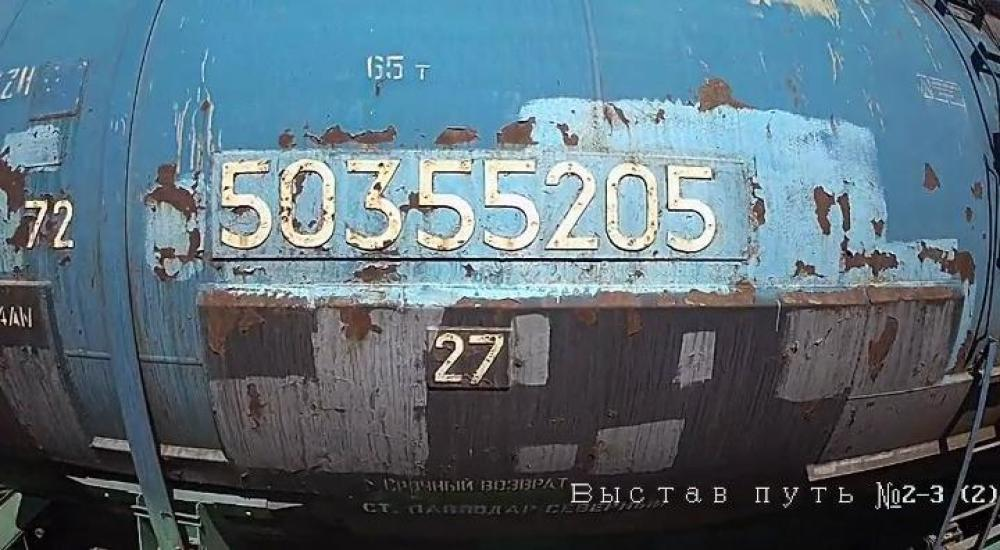Wagon-number: (212, 148, 732, 262)
